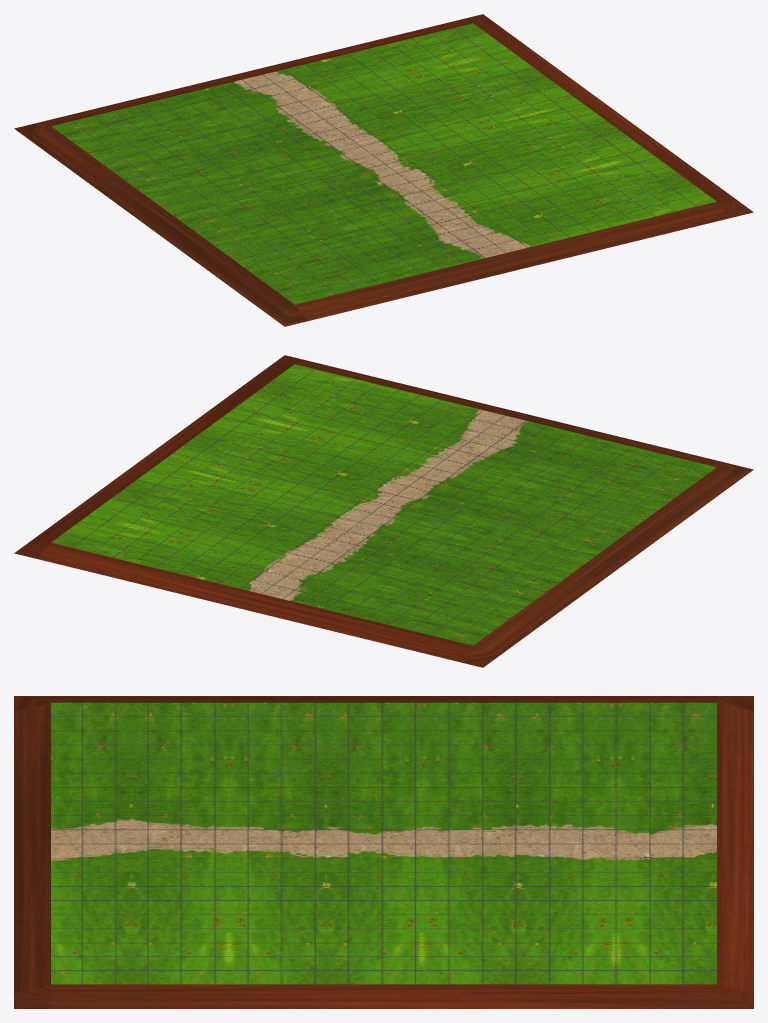
File: Road_Tile.glb
3 renders of one model, top to bottom at view 1: azimuth 30°, elevation 25°; view 2: azimuth 150°, elevation 25°; view 3: azimuth 270°, elevation 25°, orthographic. The views are drawn at different scales.
Visible parts, largest first — view 1: Cube; view 2: Cube; view 3: Cube.
Boxes of the visible parts, box(x1,y1,x2,y2) form: Cube: box(14, 14, 753, 326); Cube: box(14, 355, 753, 667); Cube: box(14, 696, 753, 1008).
Bounding box in the file's own units: 20 × 0.2673 × 20.
Materials: 1 (1 with a texture image).
